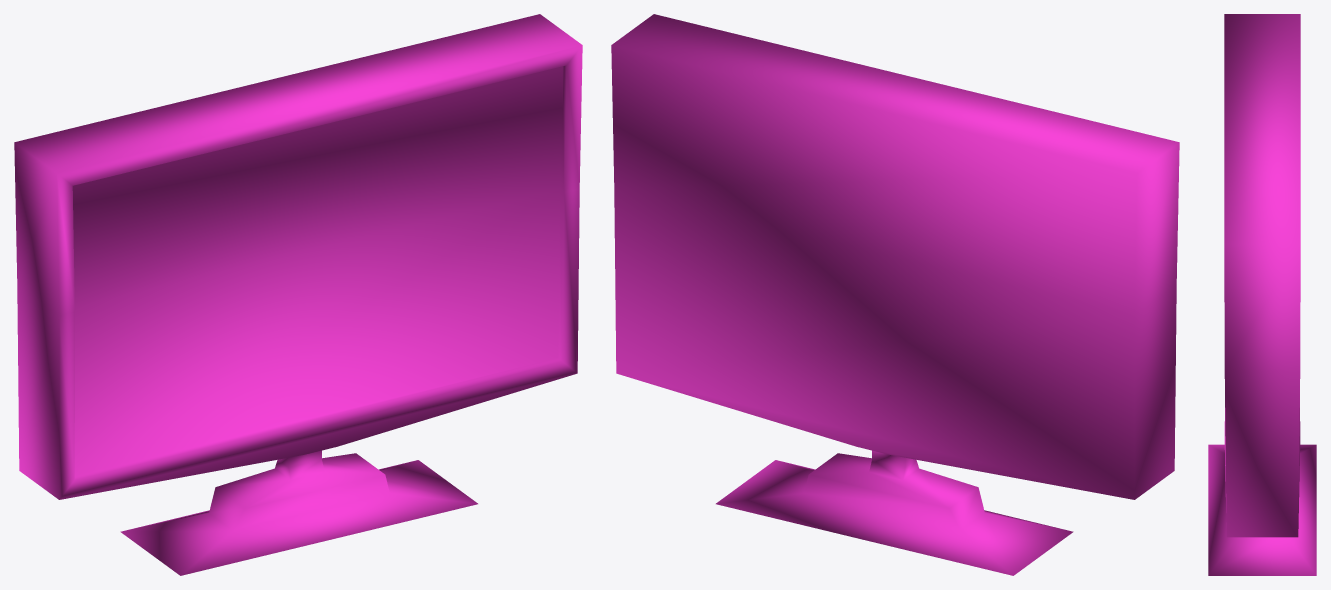
The model's file is Monitor.fbx.
3 views of the same model, side by side, from view 1: azimuth 30°, elevation 25°; view 2: azimuth 150°, elevation 25°; view 3: azimuth 270°, elevation 25° (orthographic). The views are drawn at different scales.
Parts seen in each view (by area): view 1: Box001; view 2: Box001; view 3: Box001.
Part boxes in pixels (x1=…): Box001: x1=14, y1=14, x2=582, y2=575; Box001: x1=611, y1=14, x2=1179, y2=575; Box001: x1=1208, y1=14, x2=1316, y2=575.
Size of the model in its own units: 105 by 20.85 by 80.97.
